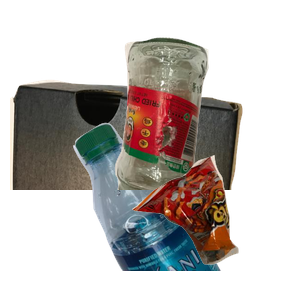cardboard: (10, 77, 245, 257)
glass: (112, 35, 300, 215)
plastic: (71, 120, 300, 300)
trash: (130, 153, 300, 300)
